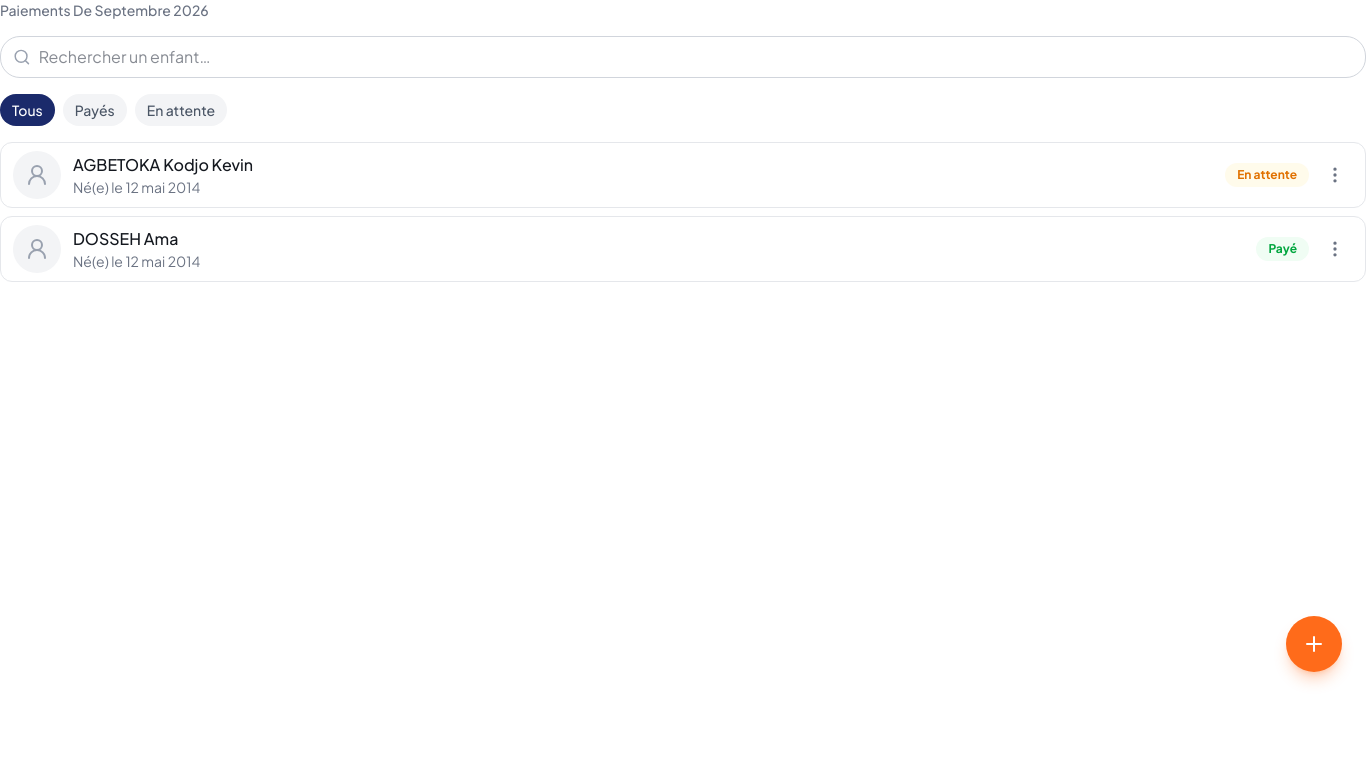
Test case: PlayerList › annule la suppression sans appeler l'action serveur
Step 1. Click the button named "Actions" in the row of "AGBETOKA Kodjo Kevin" → (1335, 175), box [1317,157,1353,193]
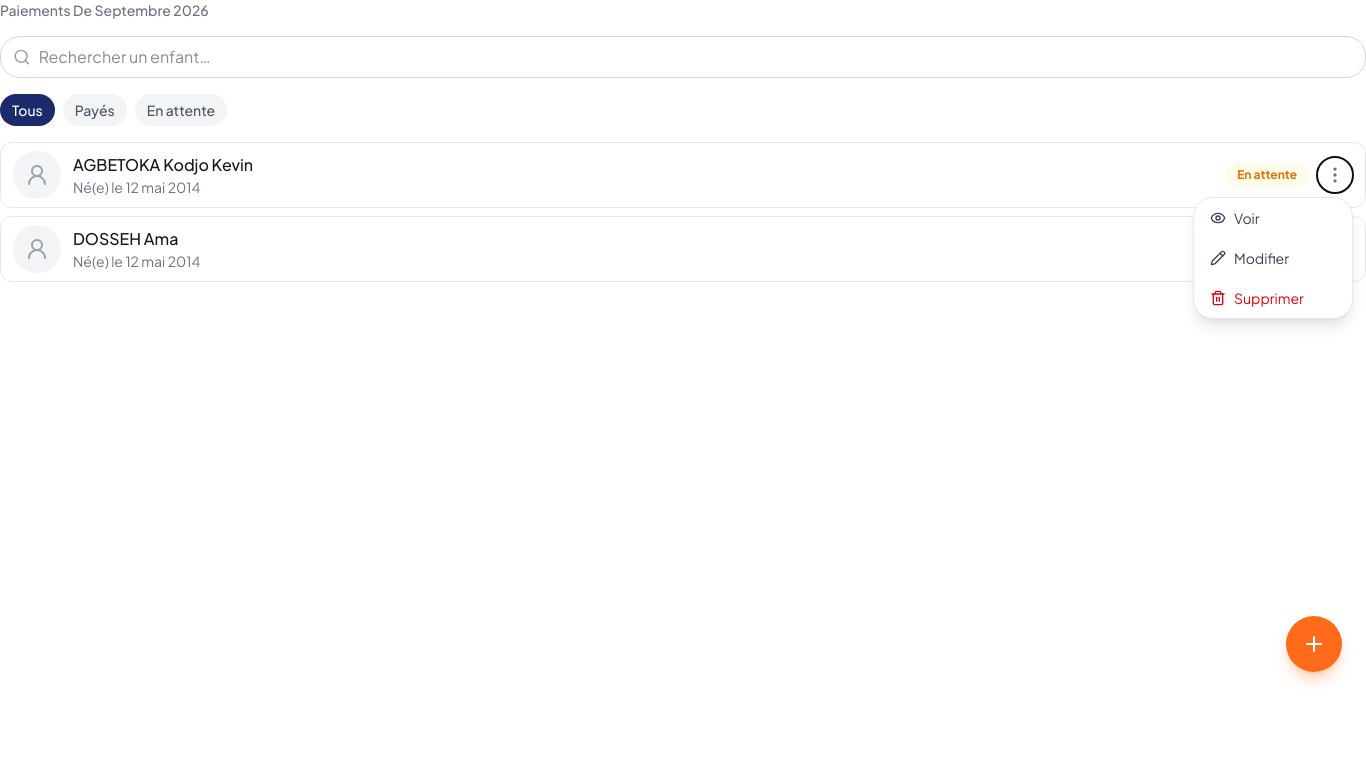
Step 2. Click the menu item "Supprimer" → (1273, 298), box [1194,278,1352,318]
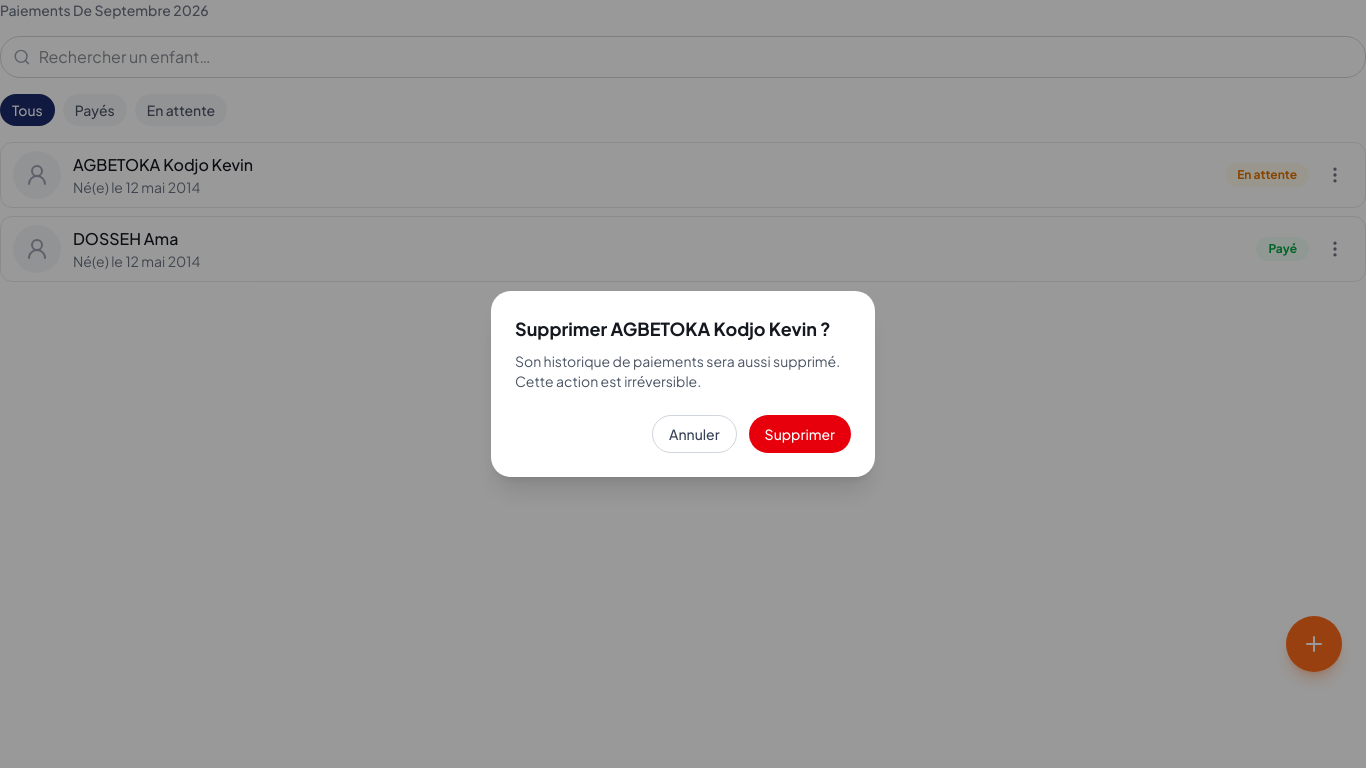
Step 3. Click the button "Annuler" → (694, 434), box [652,415,737,453]
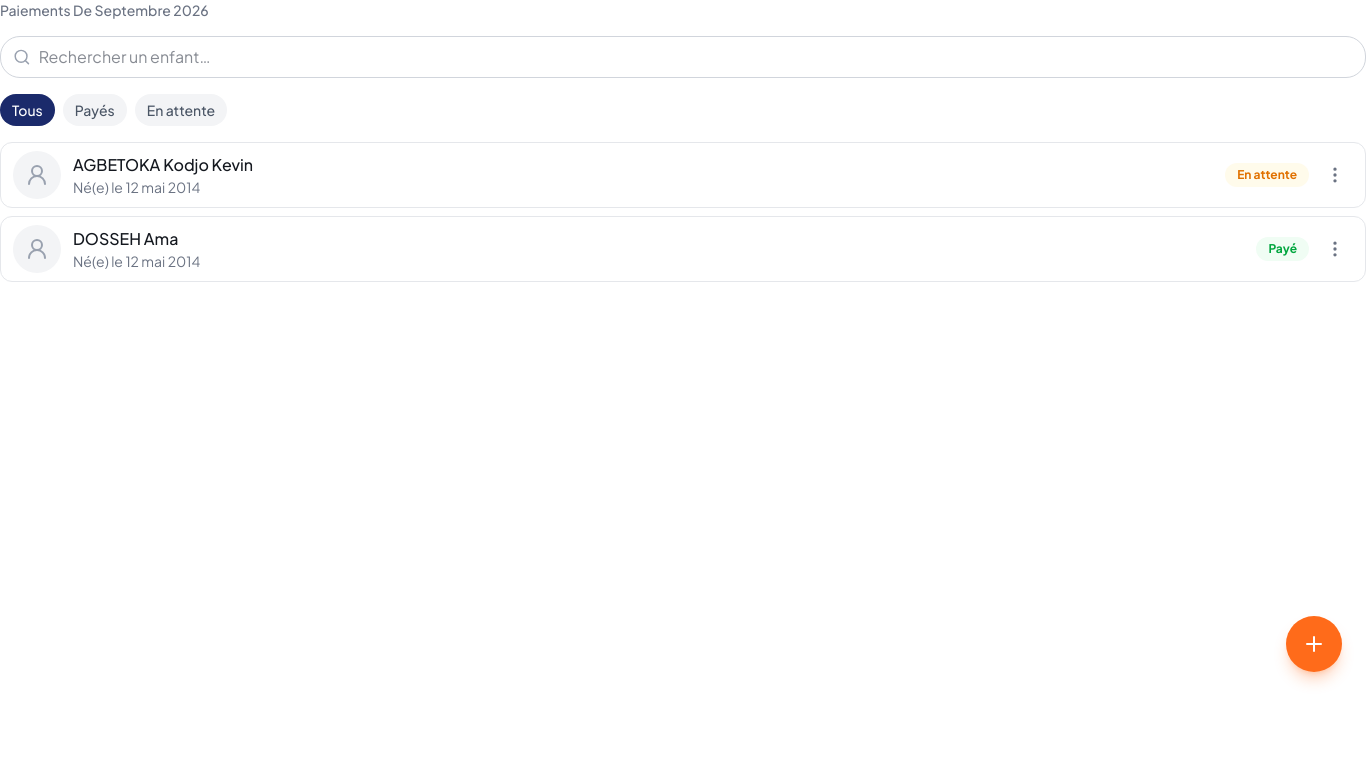
Now the heading "Supprimer AGBETOKA Kodjo Kevin ?" is gone
